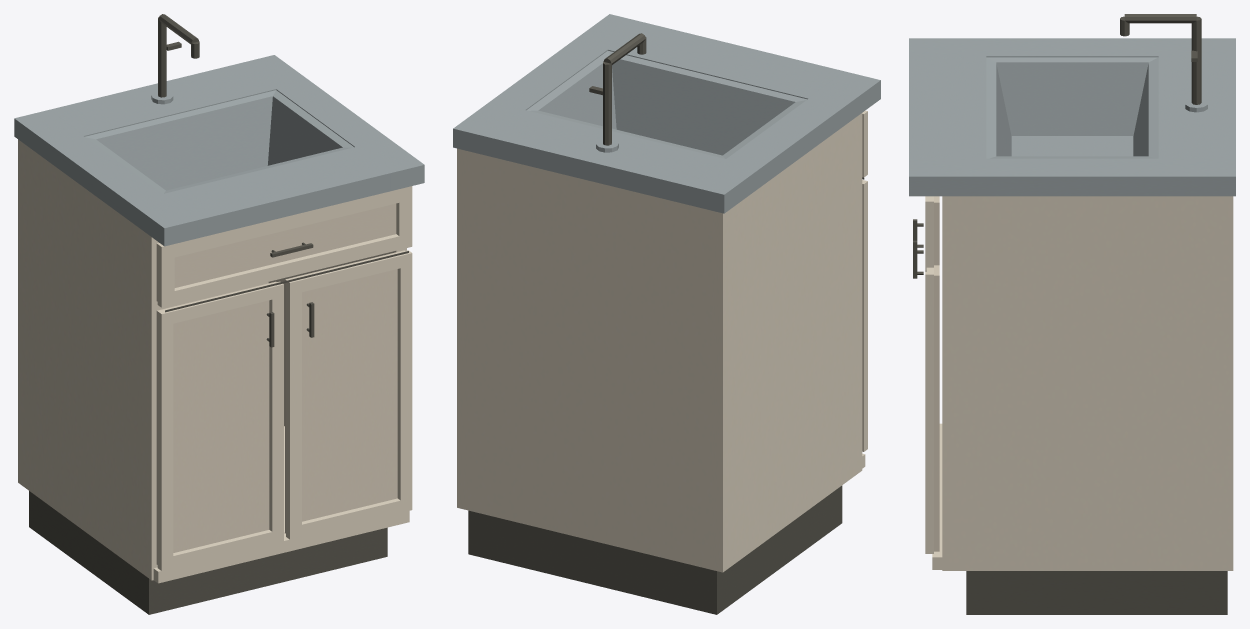
File: sink.glb
3 views of the same model, side by side, from view 1: azimuth 30°, elevation 25°; view 2: azimuth 150°, elevation 25°; view 3: azimuth 270°, elevation 25° (orthographic). The views are drawn at different scales.
Visible parts, largest first — view 1: home_sink; view 2: home_sink; view 3: home_sink.
Boxes of the visible parts, left/top/right/bottom form: home_sink: left=14, top=14, right=424, bottom=614; home_sink: left=453, top=14, right=880, bottom=614; home_sink: left=909, top=14, right=1235, bottom=614.
Bounding box in the file's own units: 0.6 × 1.09 × 0.6.
Materials: 1 (1 with a texture image).
